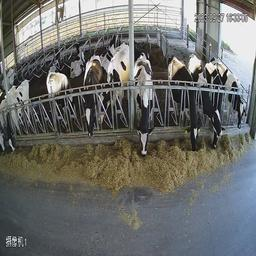cow: (166, 54, 203, 164), (187, 39, 222, 144), (96, 25, 130, 126), (40, 71, 78, 141), (135, 48, 158, 163), (85, 39, 108, 153), (4, 76, 31, 159), (215, 51, 243, 129), (66, 41, 86, 79)
